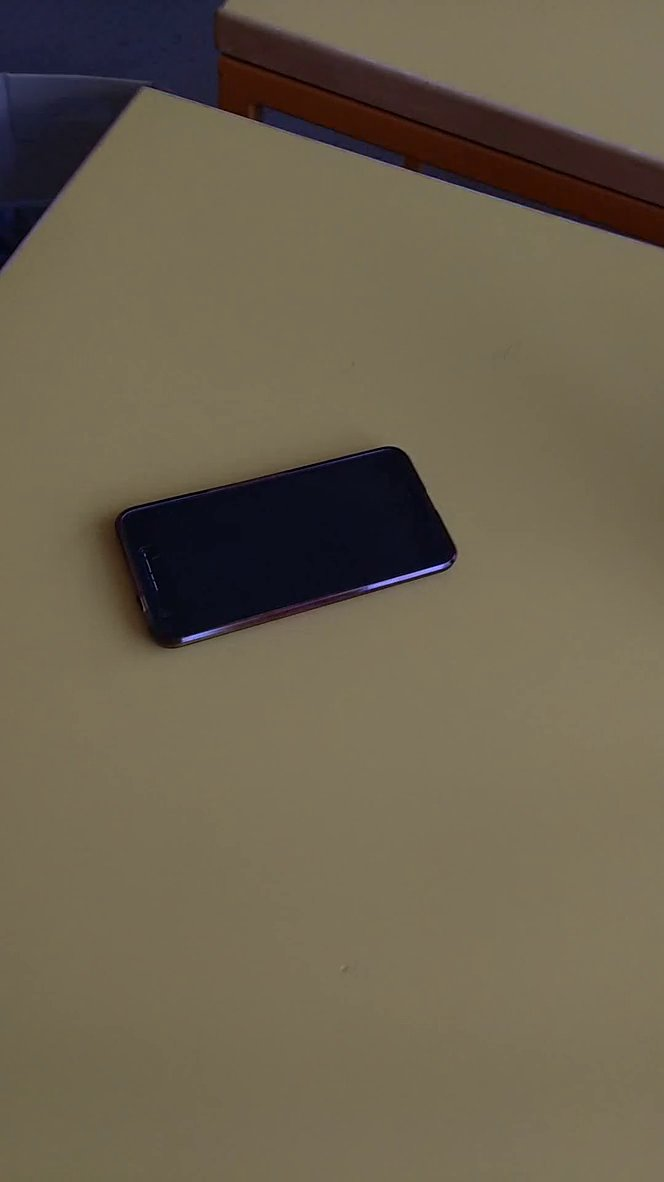phone: (96, 436, 471, 663)
